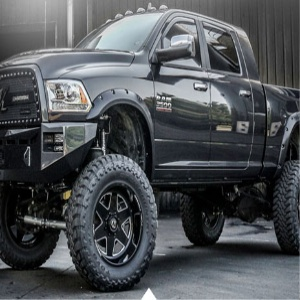train: (67, 149, 161, 291), (1, 162, 64, 267), (182, 191, 229, 249), (276, 155, 300, 243)
